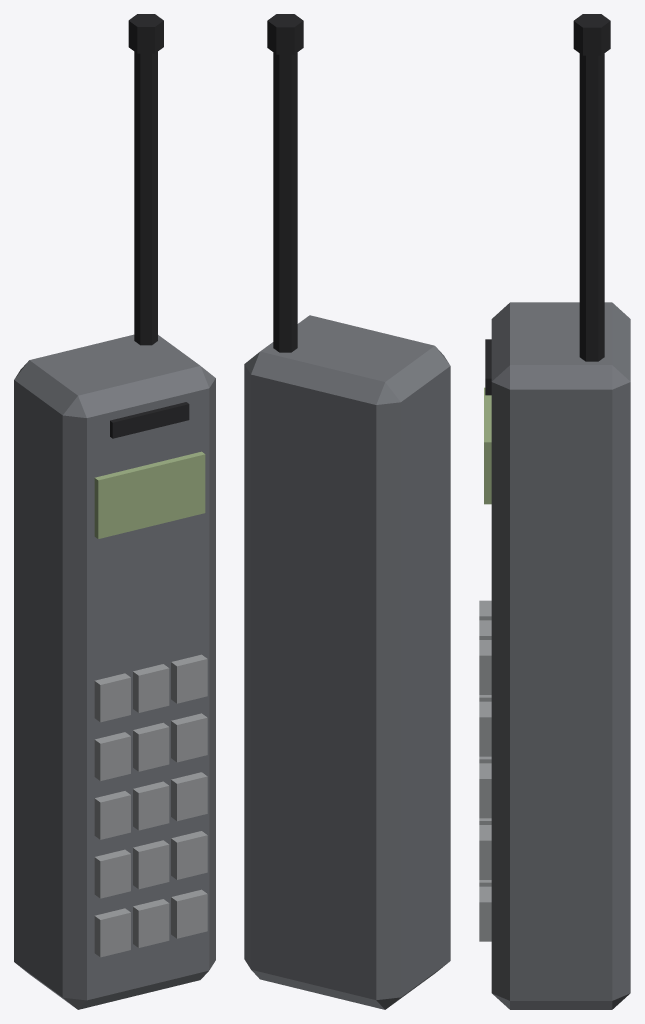
Rendered from phone.brick.glb.
3 renders of one model, left to right at view 1: azimuth 30°, elevation 25°; view 2: azimuth 150°, elevation 25°; view 3: azimuth 270°, elevation 25°, orthographic. The views are drawn at different scales.
Visible parts, largest first — view 1: body, lcd, aerial, key32, key42, key22, key41, key02, key10, key11, key21, key01 (+8 smaller); view 2: body, aerial, aerial-tip; view 3: body, aerial, aerial-tip, lcd, key02, key22, key32, key12, key42, grille.
Part boxes in pixels (left/top/right/bottom): body: left=14, top=334, right=215, bottom=1009; lcd: left=94, top=451, right=205, bottom=538; aerial: left=134, top=51, right=157, bottom=345; key32: left=171, top=713, right=207, bottom=762; key42: left=171, top=654, right=207, bottom=703; key22: left=171, top=772, right=207, bottom=821; key41: left=133, top=664, right=169, bottom=712; key02: left=171, top=889, right=207, bottom=938; key10: left=94, top=849, right=130, bottom=898; key11: left=133, top=840, right=169, bottom=889; key21: left=133, top=781, right=169, bottom=830; key01: left=133, top=899, right=169, bottom=947; body: left=244, top=315, right=450, bottom=1009; aerial: left=273, top=52, right=297, bottom=352; aerial-tip: left=267, top=14, right=303, bottom=54; body: left=491, top=302, right=630, bottom=1009; aerial: left=579, top=53, right=604, bottom=361; aerial-tip: left=573, top=14, right=610, bottom=55; lcd: left=484, top=387, right=491, bottom=504; key02: left=479, top=886, right=491, bottom=941; key22: left=479, top=763, right=491, bottom=818; key32: left=479, top=701, right=491, bottom=756; key12: left=479, top=825, right=491, bottom=879; key42: left=479, top=640, right=491, bottom=694; grille: left=485, top=339, right=491, bottom=395.
Bounding box in the file's own units: 0.06 × 0.35 × 0.049.
